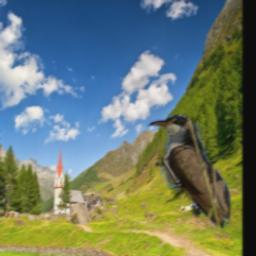Cuckoo: (128, 116, 231, 229)
